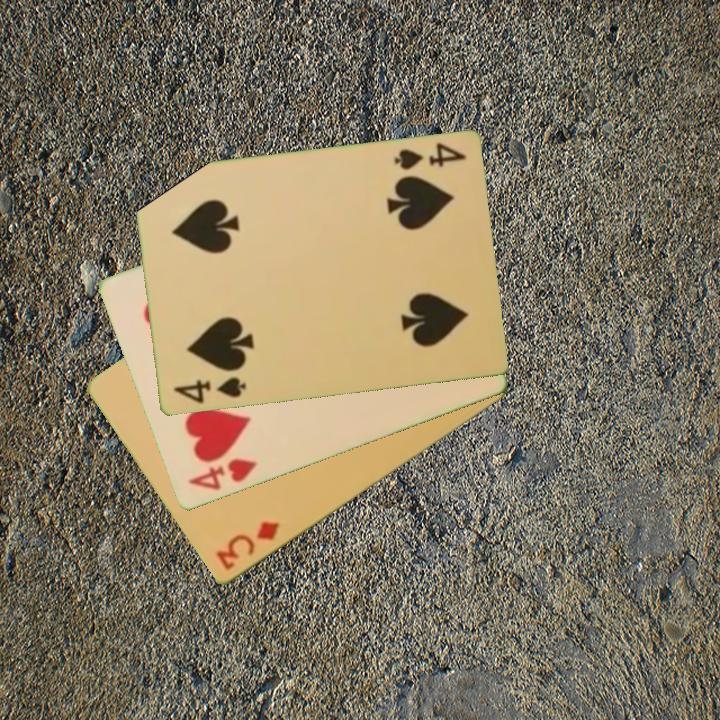3d: (212, 518, 282, 574)
4h: (184, 455, 260, 494)
4s: (170, 374, 248, 407), (390, 140, 468, 173)
